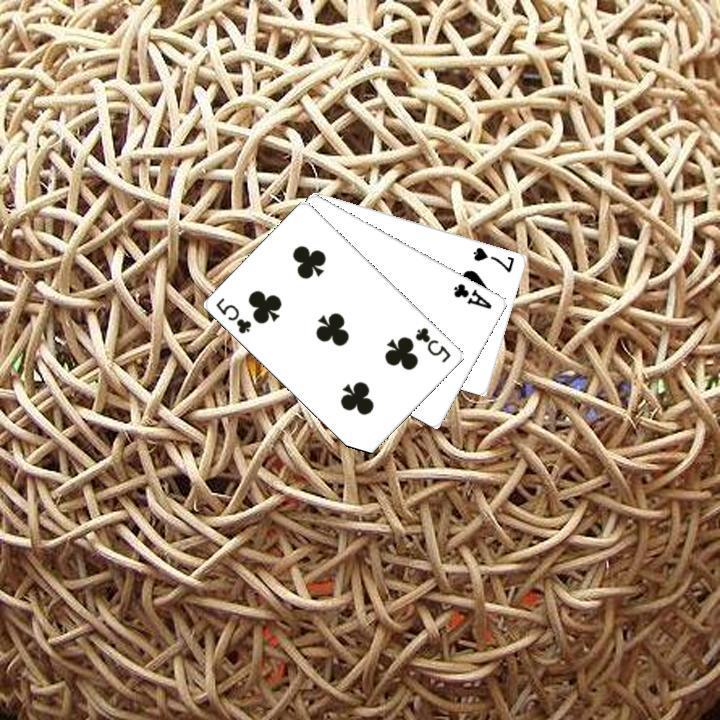5: (212, 293, 254, 336), (411, 323, 453, 365)
7: (469, 243, 517, 274)
A: (450, 279, 494, 311)
